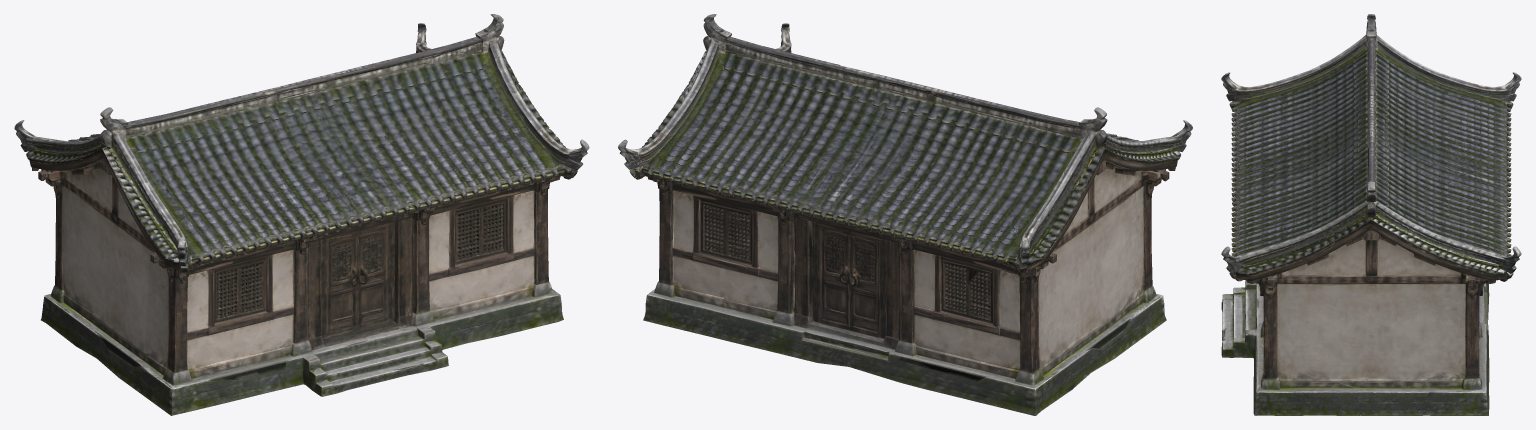
File: courtyard-house-v1.glb
The picture shows the model from 3 angles, left to right: view 1: azimuth 30°, elevation 25°; view 2: azimuth 150°, elevation 25°; view 3: azimuth 270°, elevation 25°; orthographic projection. The views are drawn at different scales.
Size of the model in its own units: 1.9 by 1.14 by 1.34.
1 material, 1 textured.
